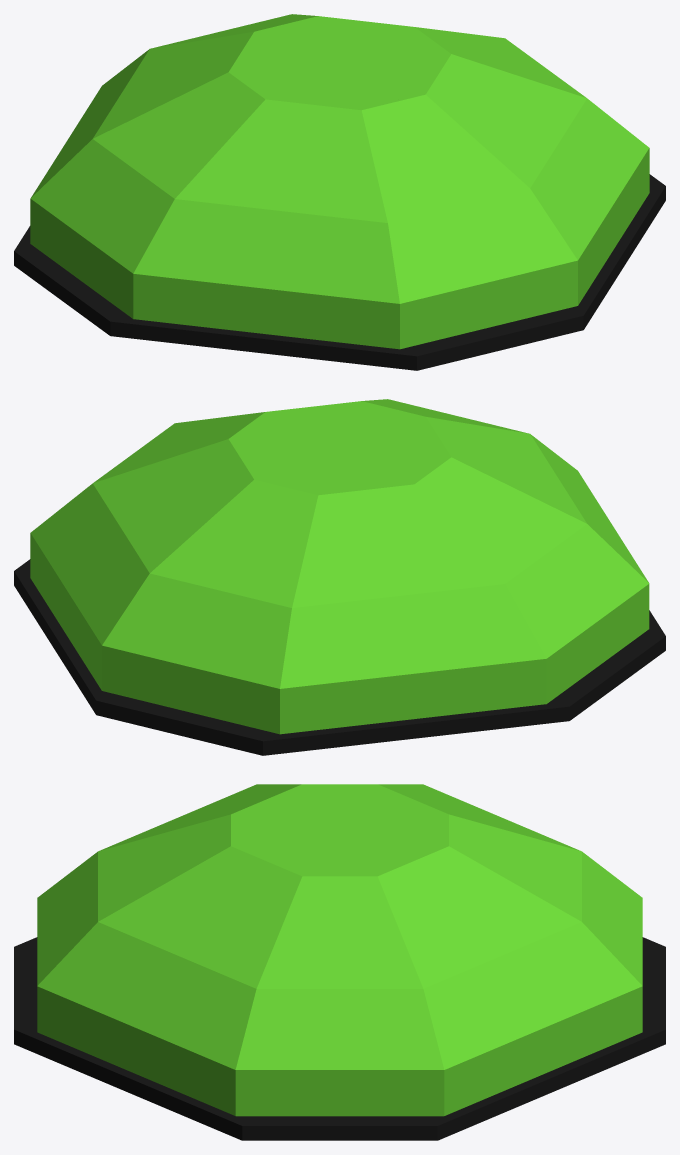
Rendered from OutsideCupule_02.fbx.
3 renders of one model, top to bottom at view 1: azimuth 30°, elevation 25°; view 2: azimuth 150°, elevation 25°; view 3: azimuth 270°, elevation 25°, orthographic.
Parts seen in each view (by area): view 1: Line123, Line122, Line124; view 2: Line123, Line122, Line124; view 3: Line123, Line122, Line124.
Boxes of the visible parts, <box> form: Line123: <box>30,14,649,349</box>; Line122: <box>14,174,665,370</box>; Line124: <box>232,17,447,108</box>; Line123: <box>30,399,649,734</box>; Line122: <box>14,559,665,755</box>; Line124: <box>232,402,447,493</box>; Line123: <box>37,784,642,1116</box>; Line122: <box>14,937,665,1140</box>; Line124: <box>234,785,445,874</box>.
Size of the model in its own units: 787 by 787 by 230.
